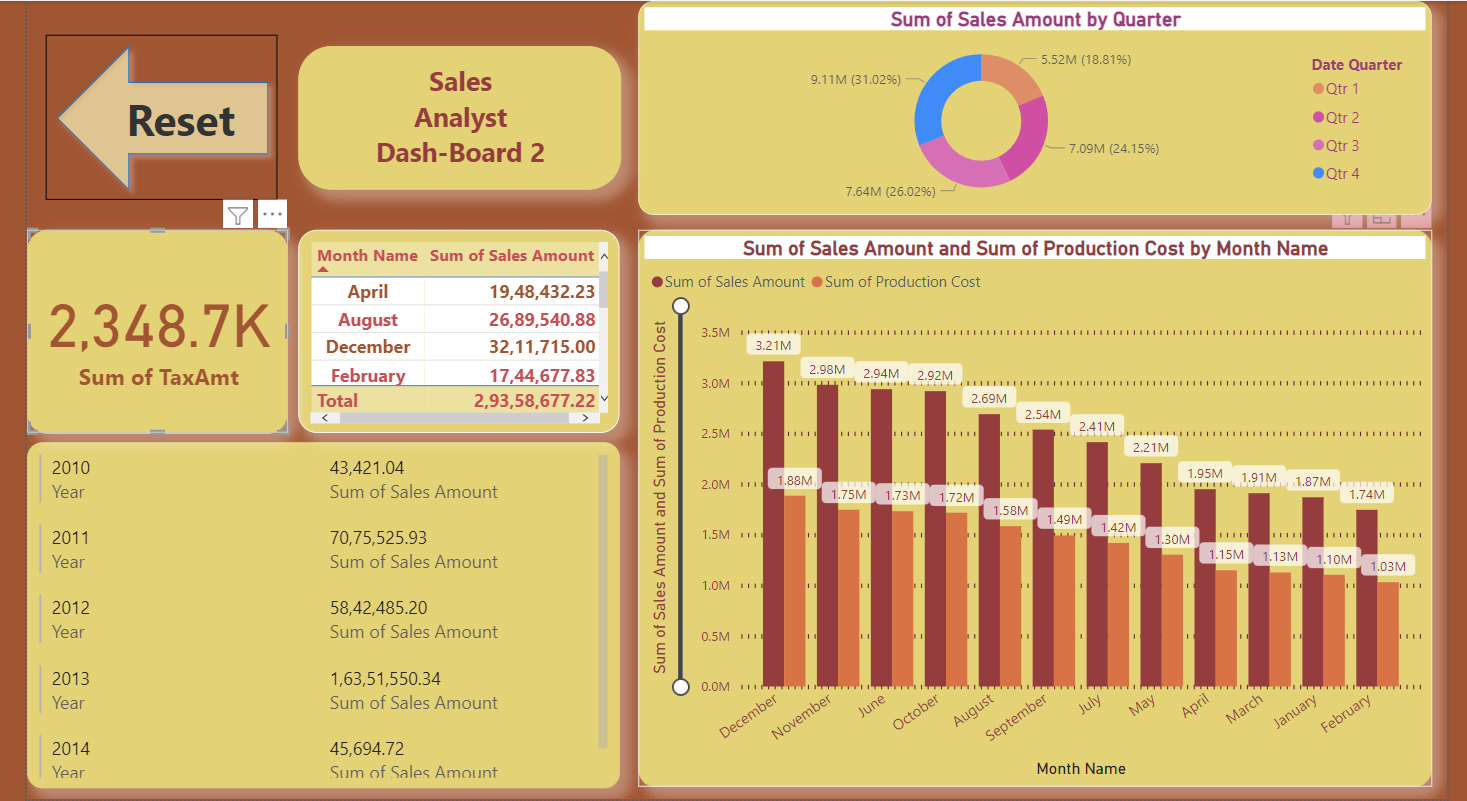

Layout of this report page (visuals, bound fields, positions):
{"tool":"powerbi","page":{"name":"Final Main DashBoard 2","canvas":[1280,720],"ordinal":2},"visuals":[{"type":"lineClusteredColumnComboChart","fields":{"Category":["Sheet1.Month Name"],"Y":["Sum(Sheet1.Sales Amount)","Sum(Sheet1.Production Cost)"]},"box":[551.3,206.6,715.1,502.4],"z":0},{"type":"multiRowCard","fields":{"Values":["Sheet1.Date.Variation.Date Hierarchy.Year","Sum(Sheet1.Sales Amount)"]},"box":[0,397.3,534.2,311.7],"z":1000},{"type":"donutChart","fields":{"Category":["Sheet1.Date.Variation.Date Hierarchy.Quarter"],"Y":["Sum(Sheet1.Sales Amount)"]},"box":[551.3,0,715.1,193.1],"z":2000},{"type":"tableEx","fields":{"Values":["Sheet1.Month Name","Sum(Sheet1.Sales Amount)"]},"box":[244.5,206.6,289.7,183.4],"z":3000},{"type":"textbox","box":[244.5,40.3,290.9,129.6],"z":4000},{"type":"shape","box":[17.1,30.6,209,149.1],"z":5000},{"type":"card","fields":{"Values":["Sum(Sheet1.TaxAmt)"]},"box":[4.9,206.6,234.7,183.4],"z":6000}]}

Visuals, with their boxes on the page's 1280x720 design canvas (x1, y1, x2, y2). These are canvas units, not pixel positions in the 1467x801 screenshot, which may show the page scaled, cropped or inside an application window:
lineClusteredColumnComboChart - Sheet1.Month Name x Sum(Sheet1.Sales Amount): <box>551,207,1266,709</box>
multiRowCard - Sheet1.Date.Variation.Date Hierarchy.Year x Sum(Sheet1.Sales Amount): <box>0,397,534,709</box>
donutChart - Sheet1.Date.Variation.Date Hierarchy.Quarter x Sum(Sheet1.Sales Amount): <box>551,0,1266,193</box>
tableEx - Sheet1.Month Name x Sum(Sheet1.Sales Amount): <box>244,207,534,390</box>
textbox: <box>244,40,535,170</box>
shape: <box>17,31,226,180</box>
card - Sum(Sheet1.TaxAmt): <box>5,207,240,390</box>
